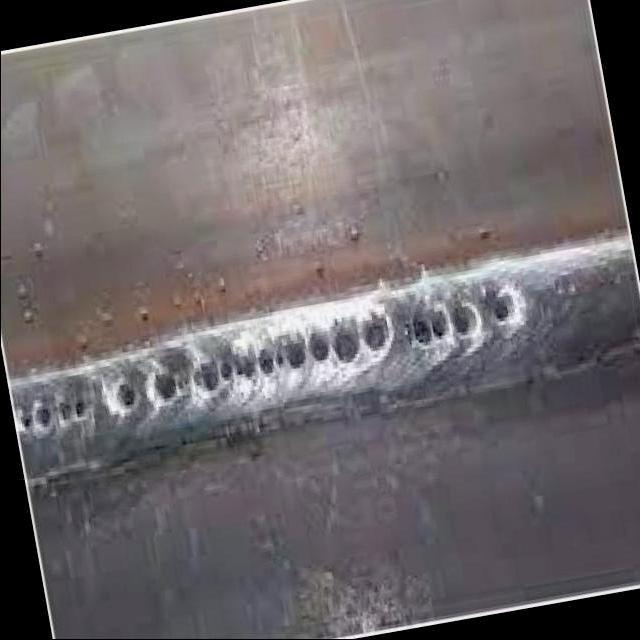defect: (187, 306, 395, 403), (401, 283, 521, 358), (18, 394, 93, 441), (142, 361, 178, 413), (105, 374, 139, 427)
